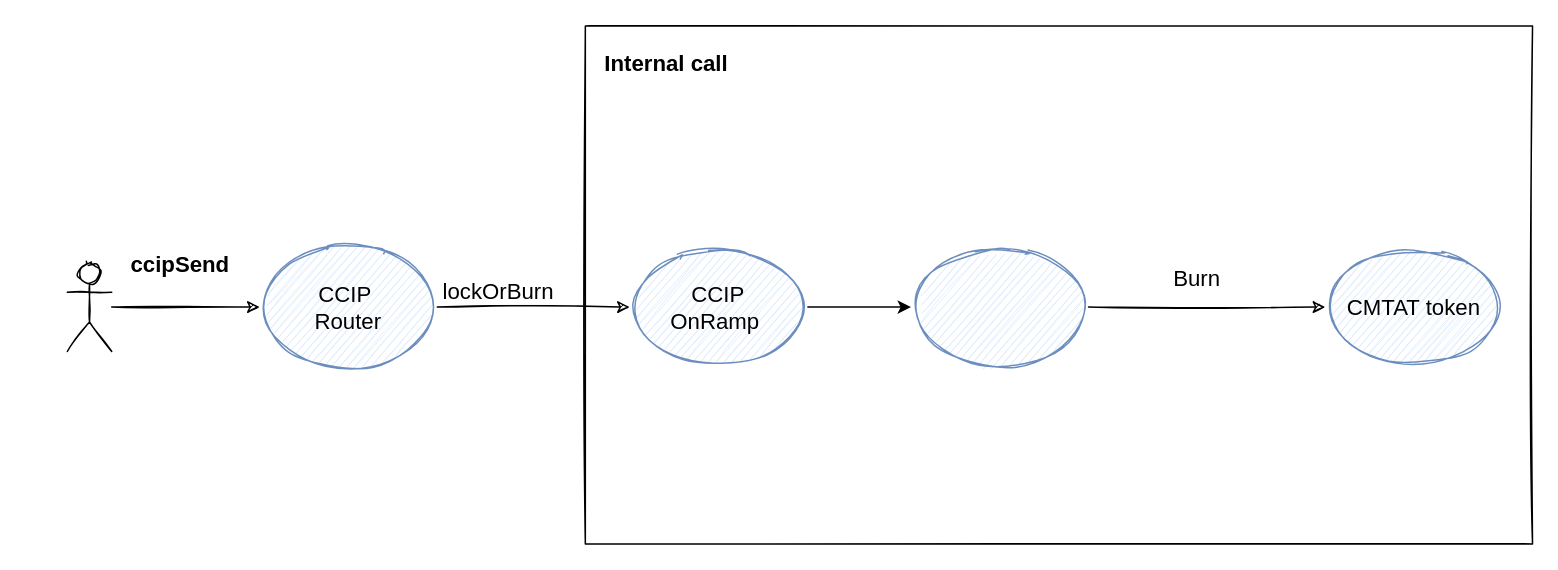
Image size: 1558x570. Some labels were removed from this diagram. The shapes that lost their labels are listed below. From the top down, each one's centre as x and y in pixels, then its label:
At point (89, 306): "Token holder".
At point (999, 306): "CCIP Token Pool".
